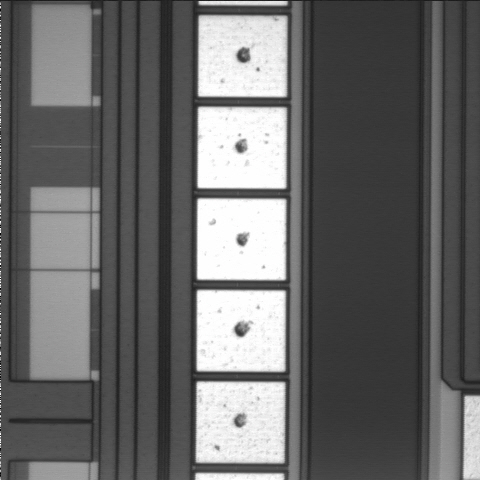pad: (197, 107, 287, 189), (197, 198, 286, 280), (197, 290, 286, 372), (198, 16, 287, 97), (196, 382, 285, 463)
